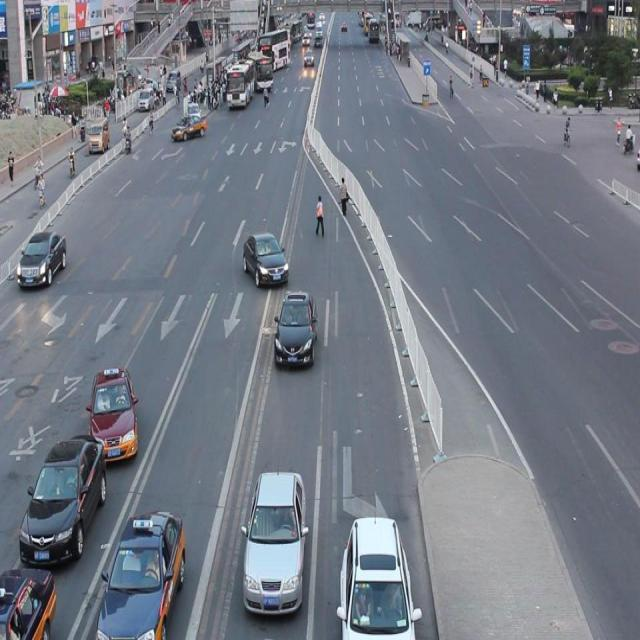car: (96, 506, 186, 640), (20, 431, 106, 565), (338, 512, 416, 640), (240, 466, 307, 614), (89, 366, 139, 464), (1, 565, 56, 640), (272, 286, 317, 369), (17, 229, 68, 289), (242, 230, 289, 288)
